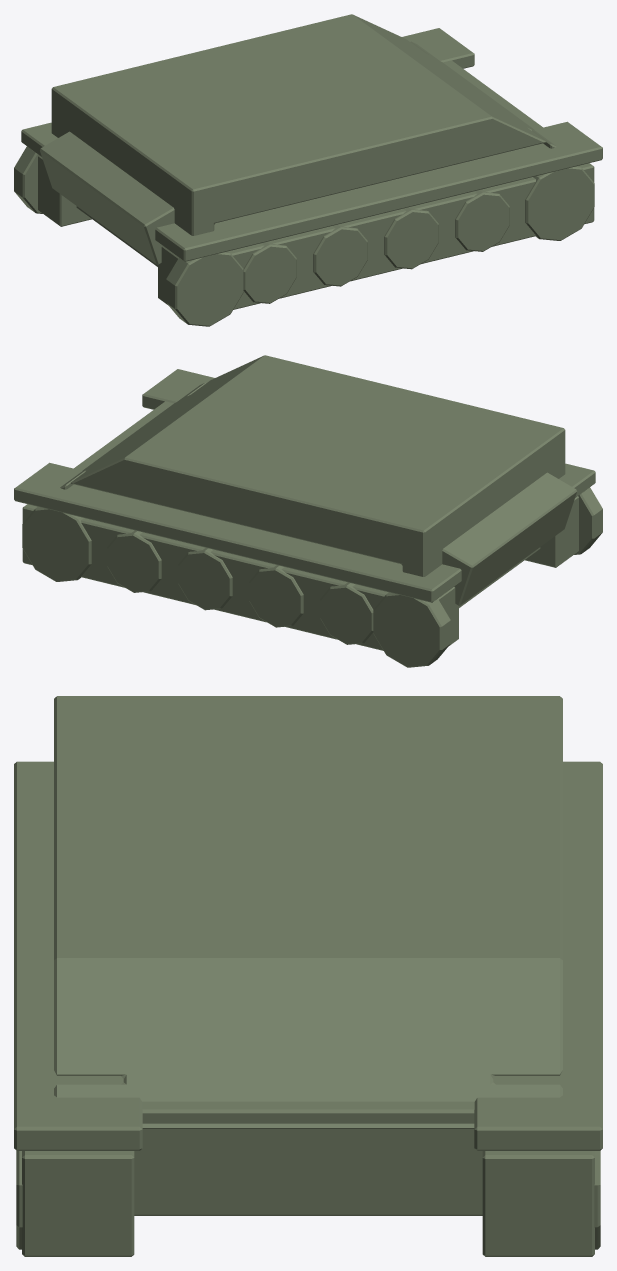
The model's file is tank.glb.
The picture shows the model from 3 angles, top to bottom: view 1: azimuth 30°, elevation 25°; view 2: azimuth 150°, elevation 25°; view 3: azimuth 270°, elevation 25°; orthographic projection. The views are drawn at different scales.
Visible parts, largest first — view 1: tank; view 2: tank; view 3: tank.
Part boxes in pixels (box(x1,y1,x2,y2)): tank: box(14, 14, 602, 326); tank: box(14, 355, 602, 667); tank: box(14, 696, 602, 1256).
Bounding box in the file's own units: 3.33 × 0.97 × 2.2.
